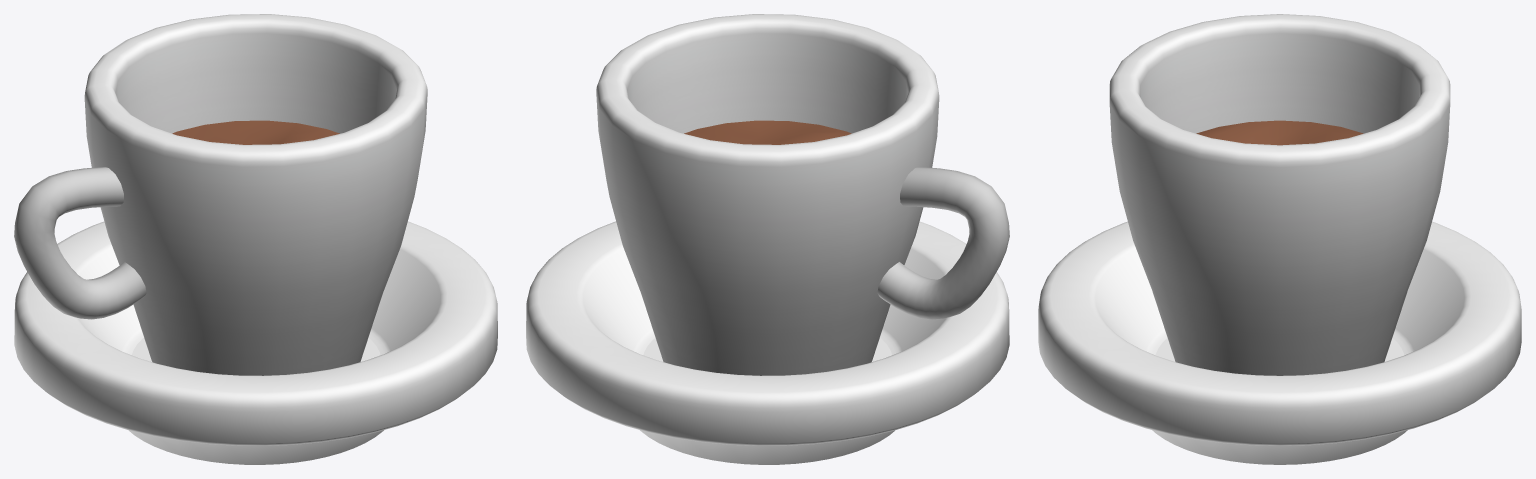
File: CoffeeCup.fbx
The picture shows the model from 3 angles, left to right: view 1: azimuth 30°, elevation 25°; view 2: azimuth 150°, elevation 25°; view 3: azimuth 270°, elevation 25°; orthographic projection.
Parts seen in each view (by area): view 1: CoffeeCup; view 2: CoffeeCup; view 3: CoffeeCup.
Part boxes in pixels (x1,y1,x2,y2): CoffeeCup: (14,14,497,464); CoffeeCup: (526,14,1009,464); CoffeeCup: (1038,14,1521,464).
Bounding box in the file's own units: 67.27 × 46.25 × 62.78.
1 material, 1 textured.
